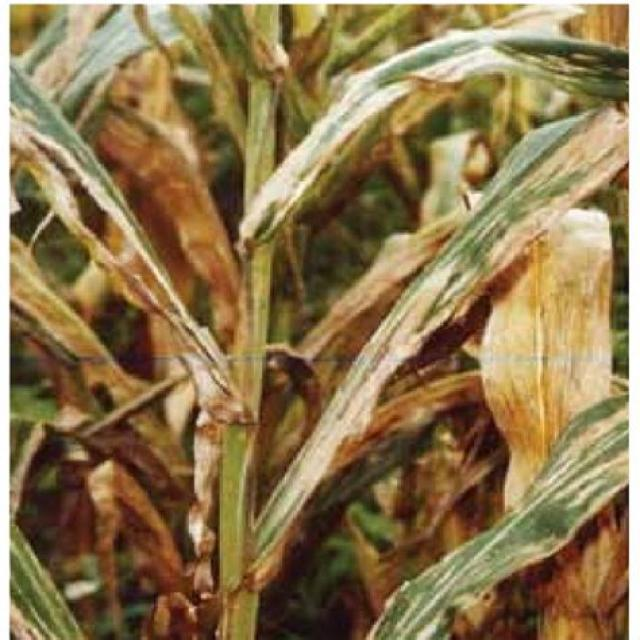blight: (495, 139, 597, 224), (540, 401, 622, 506)
